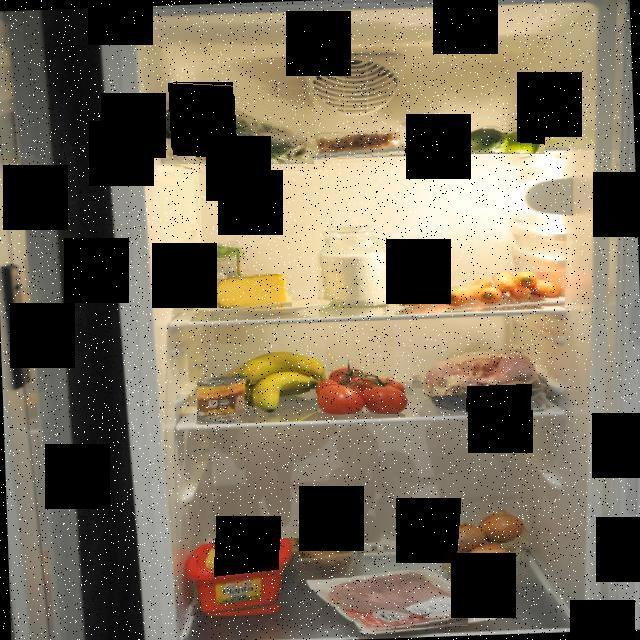banana: (230, 345, 326, 413)
butter: (178, 538, 300, 618)
carrot: (392, 272, 566, 314)
cheese: (210, 274, 292, 313)
chicken: (422, 349, 548, 414)
corn: (197, 374, 251, 422)
goat_cheese: (402, 114, 466, 153)
ham: (322, 570, 468, 633)
heavy_cream: (204, 238, 243, 290)
lime: (452, 120, 545, 154)
onion: (442, 508, 529, 582)
potato: (266, 536, 364, 578)
shrimp: (312, 132, 406, 160)
spinach: (144, 81, 314, 164)
sugar: (314, 220, 389, 308)
tomato: (310, 358, 412, 414)
